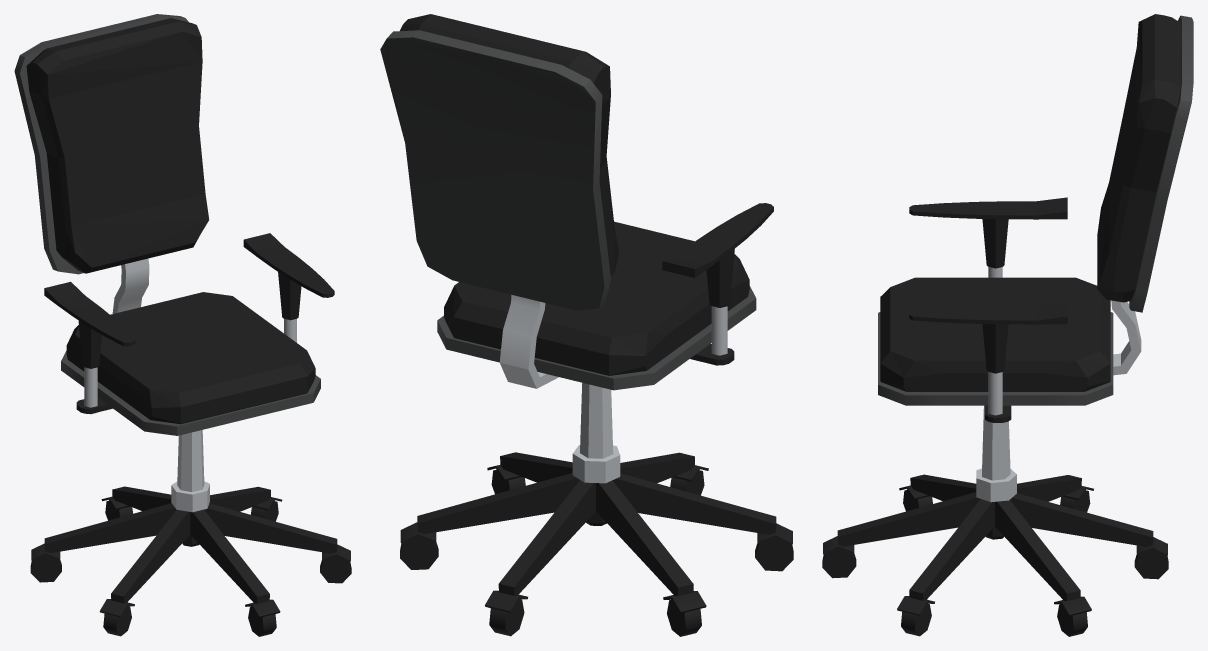
The model's file is SM_chair_office_01.fbx.
3 renders of one model, left to right at view 1: azimuth 30°, elevation 25°; view 2: azimuth 150°, elevation 25°; view 3: azimuth 270°, elevation 25°, orthographic. The views are drawn at different scales.
Visible parts, largest first — view 1: Box014; view 2: Box014; view 3: Box014.
Boxes of the visible parts, <box> form: Box014: <box>14,14,351,636</box>; Box014: <box>380,14,793,636</box>; Box014: <box>822,14,1193,636</box>.
Size of the model in its own units: 29.84 by 55.56 by 35.38.
